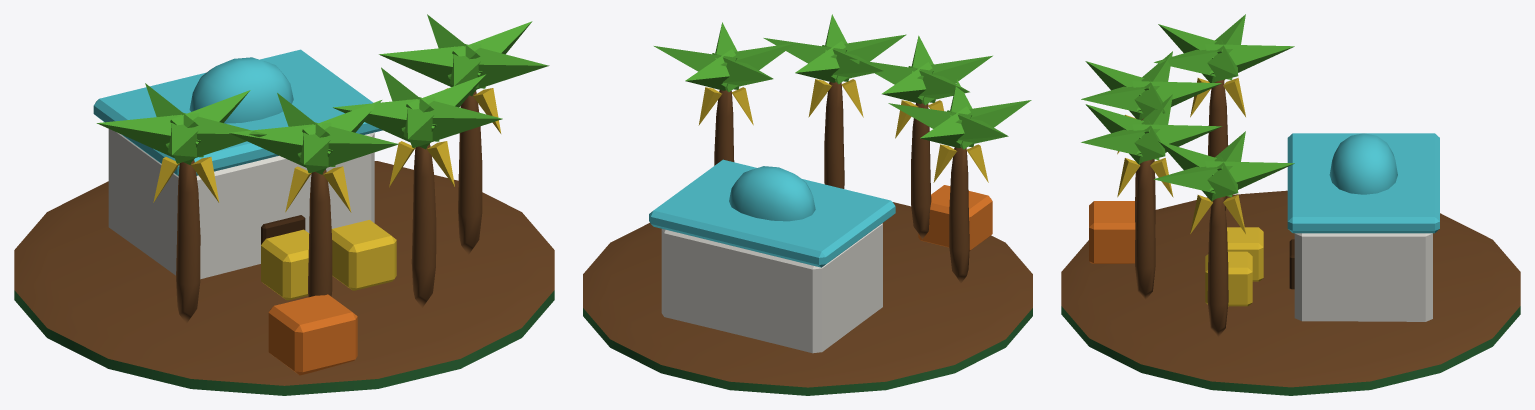
3 views of the same model, side by side, from view 1: azimuth 30°, elevation 25°; view 2: azimuth 150°, elevation 25°; view 3: azimuth 270°, elevation 25° (orthographic). The views are drawn at different scales.
Parts seen in each view (by area): view 1: fazenda_0_base, fazenda_1_torreta; view 2: fazenda_0_base, fazenda_1_torreta; view 3: fazenda_0_base, fazenda_1_torreta.
Boxes of the visible parts, <box> form: fazenda_0_base: <box>14,49,554,395</box>; fazenda_1_torreta: <box>96,14,549,323</box>; fazenda_0_base: <box>583,159,1032,395</box>; fazenda_1_torreta: <box>654,14,1031,283</box>; fazenda_0_base: <box>1061,133,1520,395</box>; fazenda_1_torreta: <box>1081,14,1294,337</box>.
Size of the model in its own units: 1.28 by 0.5951 by 1.26.
